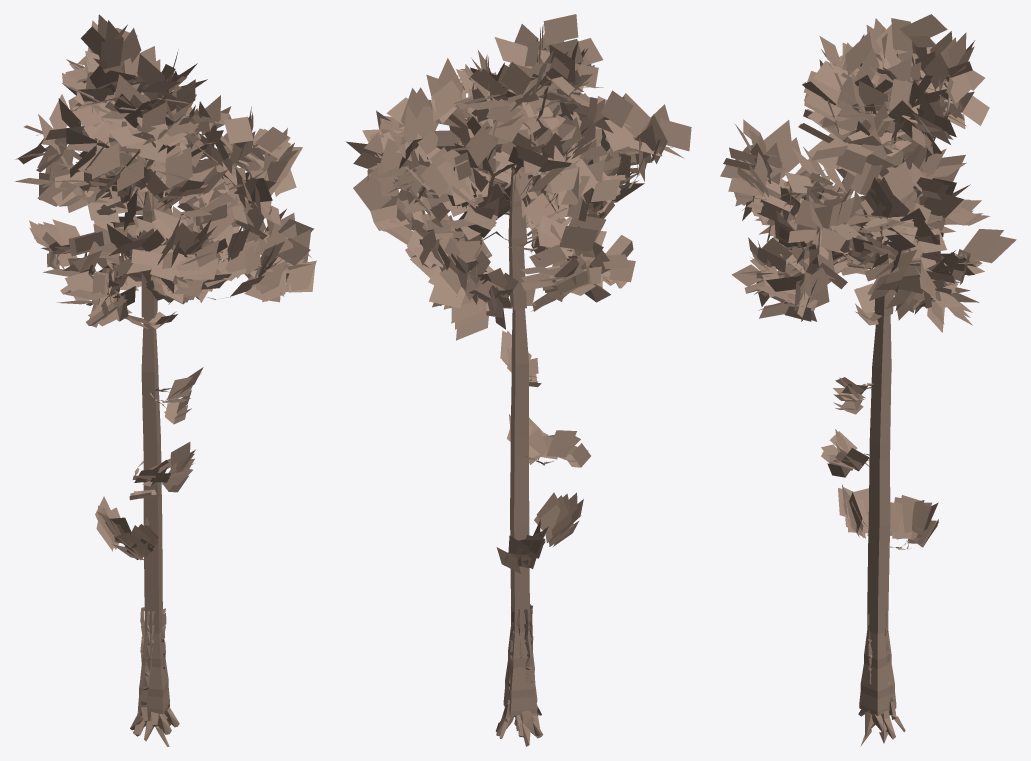
Rendered from tall_pine_lowpoly.dae.
3 views of the same model, side by side, from view 1: azimuth 30°, elevation 25°; view 2: azimuth 150°, elevation 25°; view 3: azimuth 270°, elevation 25° (orthographic). The views are drawn at different scales.
Parts seen in each view (by area): view 1: Tall_Pin; view 2: Tall_Pin; view 3: Tall_Pin.
Boxes of the visible parts, x1,y1,x2,y2 form: Tall_Pin: [15, 14, 316, 746]; Tall_Pin: [346, 14, 691, 746]; Tall_Pin: [720, 14, 1016, 746].
Bounding box in the file's own units: 6.74 × 6.25 × 16.56.
